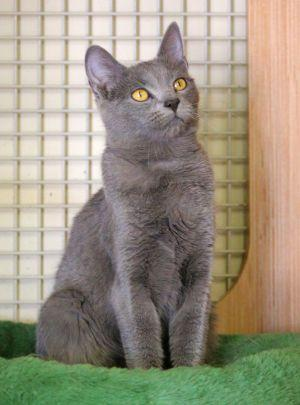rblue: (77, 21, 216, 158)
